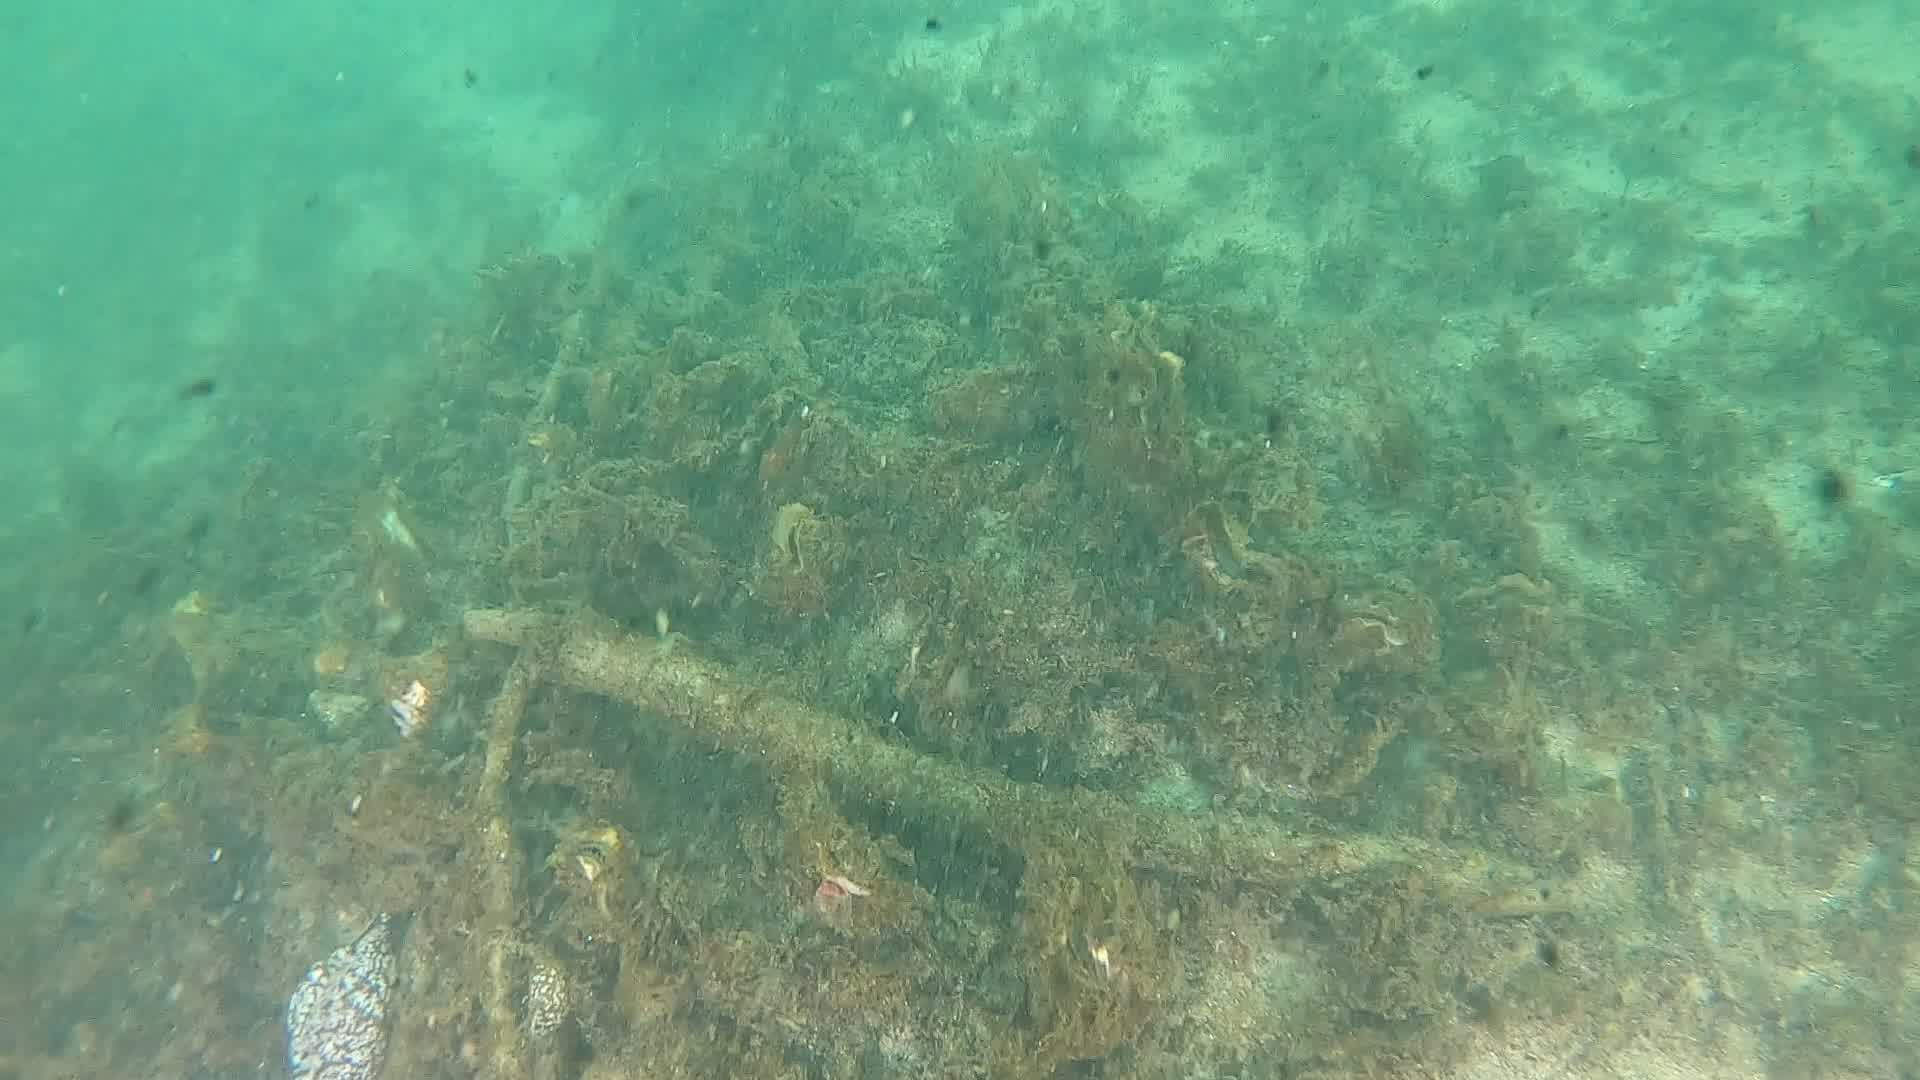wood: (456, 607, 1543, 1080)
